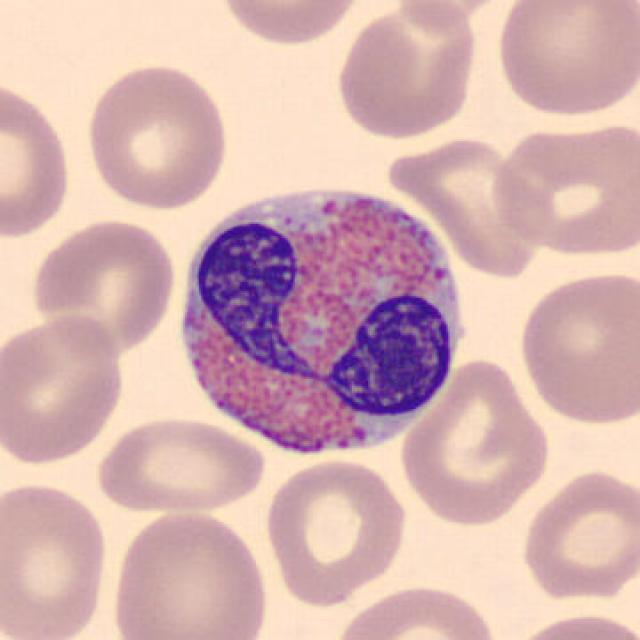Eosinophil: (164, 165, 480, 472)
RBC: (396, 354, 554, 529), (386, 134, 547, 283), (82, 58, 233, 212), (261, 455, 411, 608), (107, 504, 272, 640), (487, 113, 638, 261), (27, 213, 180, 358), (332, 2, 483, 141), (0, 310, 128, 469), (514, 266, 638, 428), (90, 412, 268, 516), (0, 478, 112, 640), (491, 0, 638, 120), (518, 465, 638, 605), (0, 74, 75, 243), (331, 580, 503, 640), (214, 0, 366, 48), (505, 608, 638, 640), (388, 0, 518, 32)
